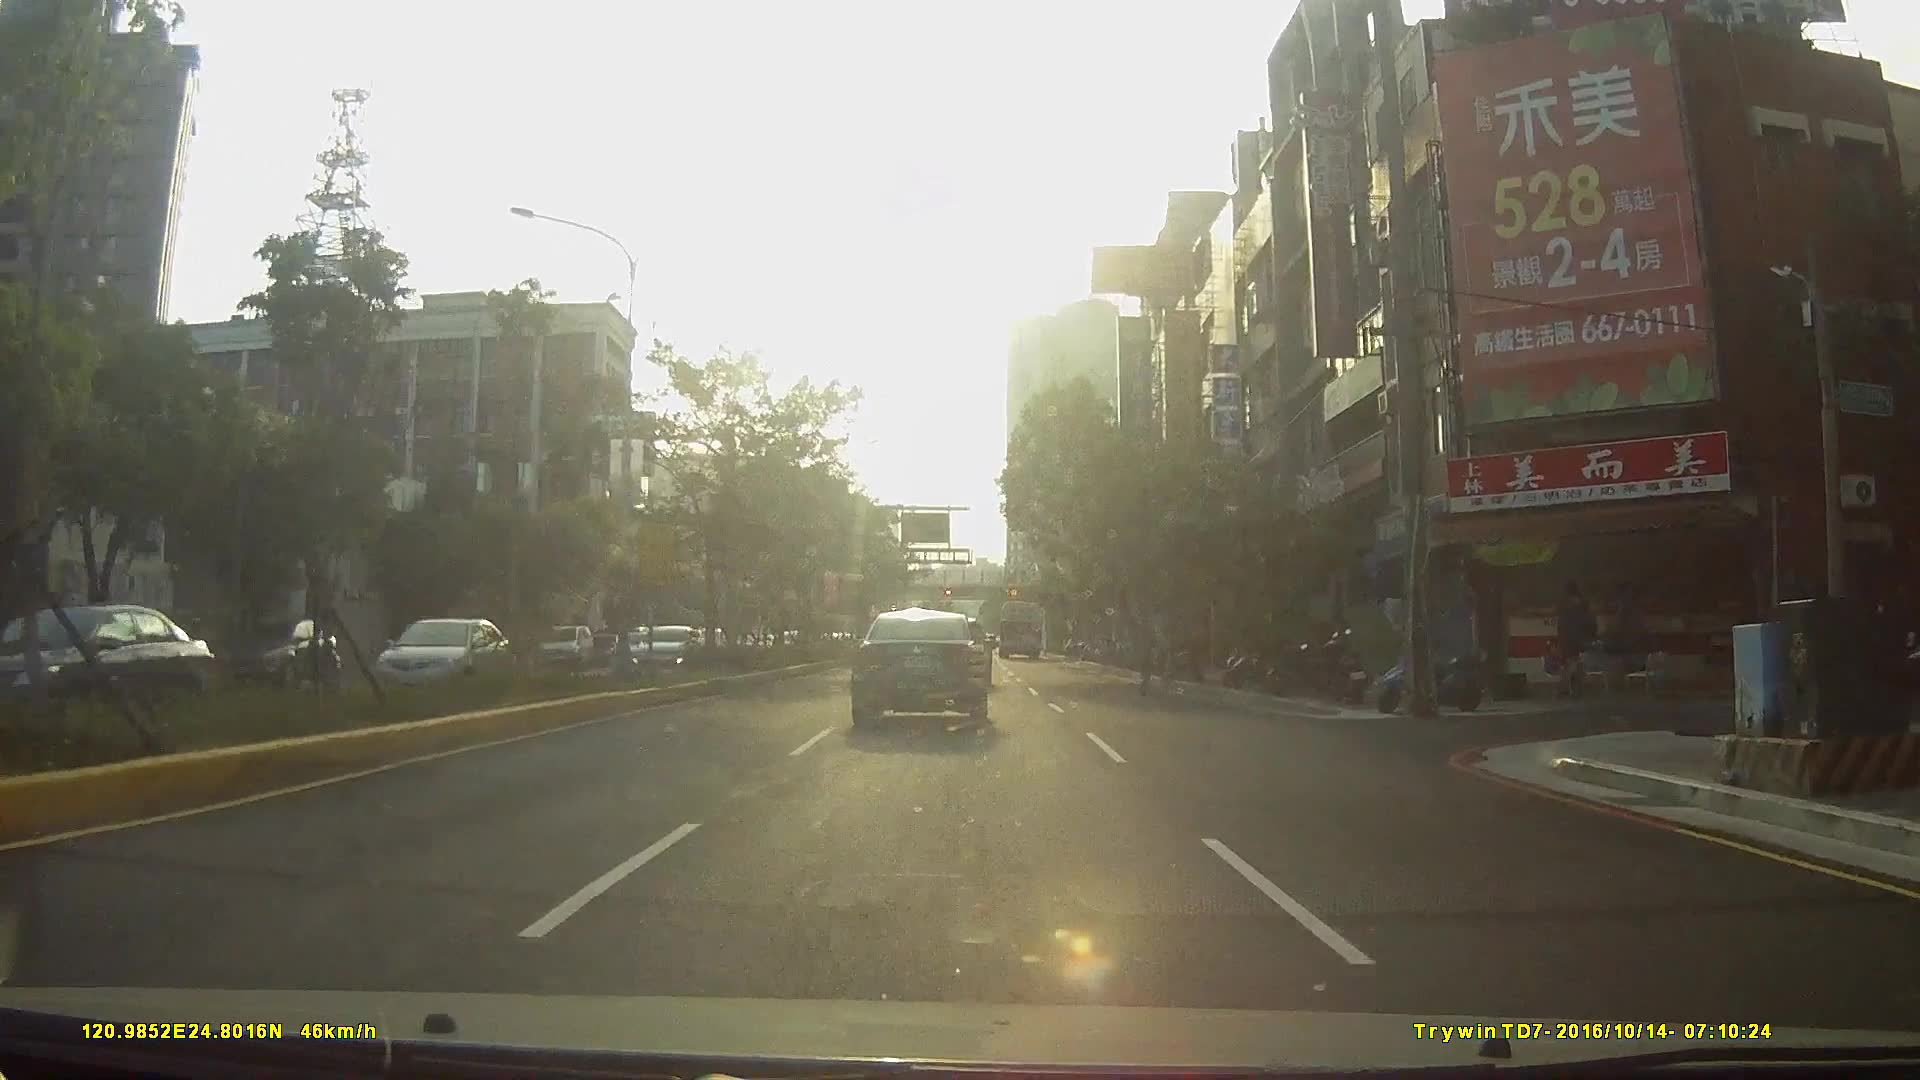pedestrian: (1132, 611, 1170, 692)
vehicle: (1, 603, 249, 755), (360, 604, 518, 723), (848, 607, 991, 731), (5, 619, 111, 704), (216, 618, 334, 690), (616, 622, 708, 674), (996, 596, 1043, 658), (536, 621, 593, 666)
